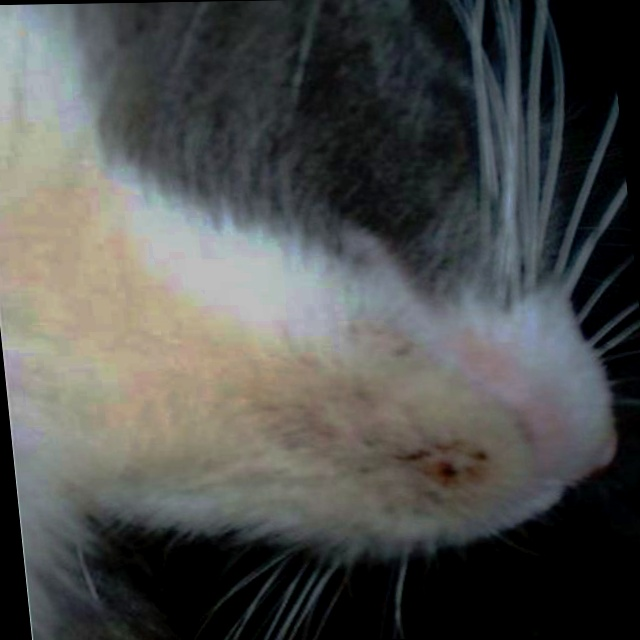acne: (353, 444, 506, 510)
